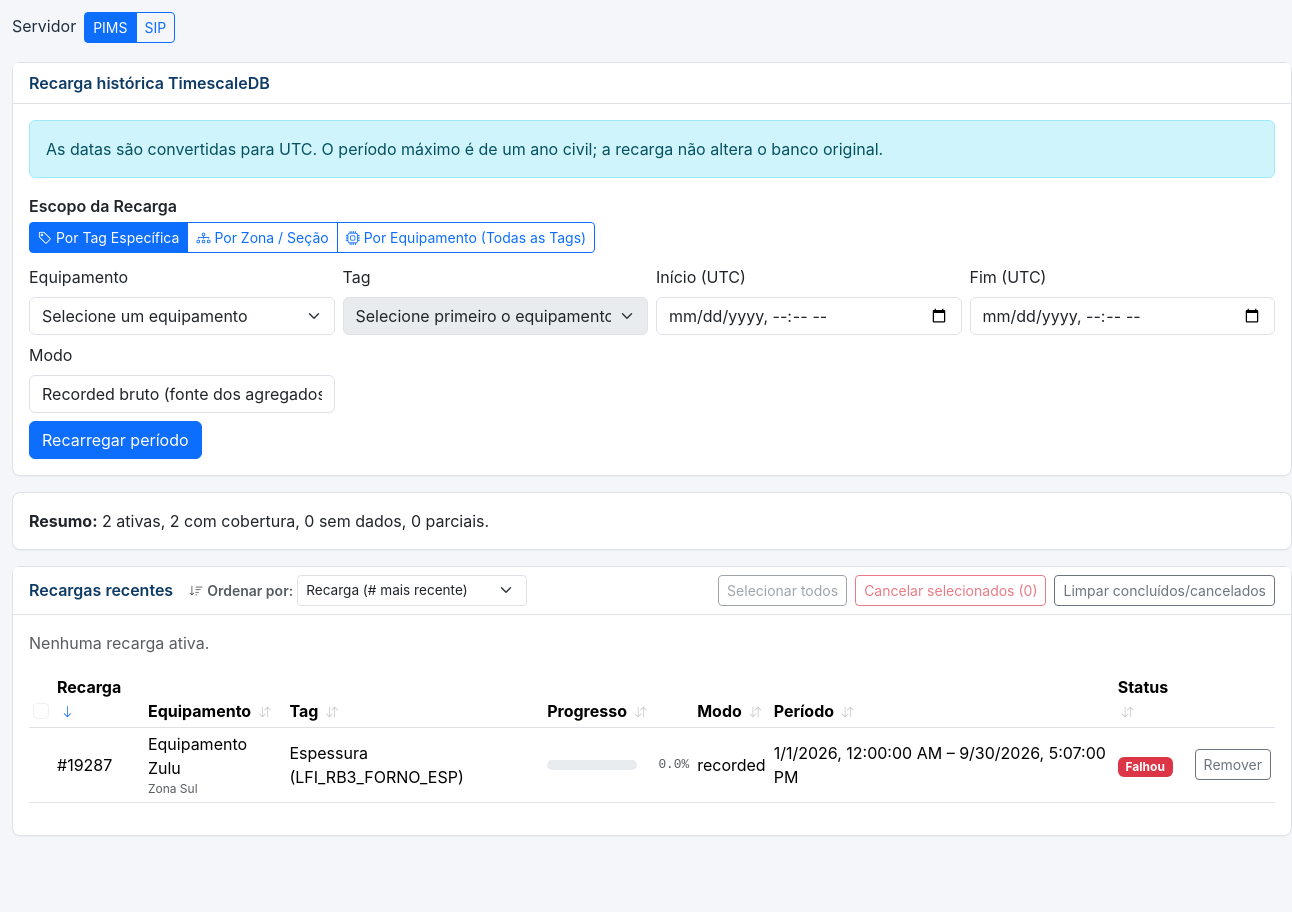
HistoricalReloadPage Sorting › removes an individual failed thickness reload record
Check: the text "Espessura (LFI_RB3_FORNO_ESP)" is shown, box left=285, top=727, right=543, bottom=802
Click the button with aria-label "Remover job #19287": point(1233, 765) left=1195, top=749, right=1271, bottom=780
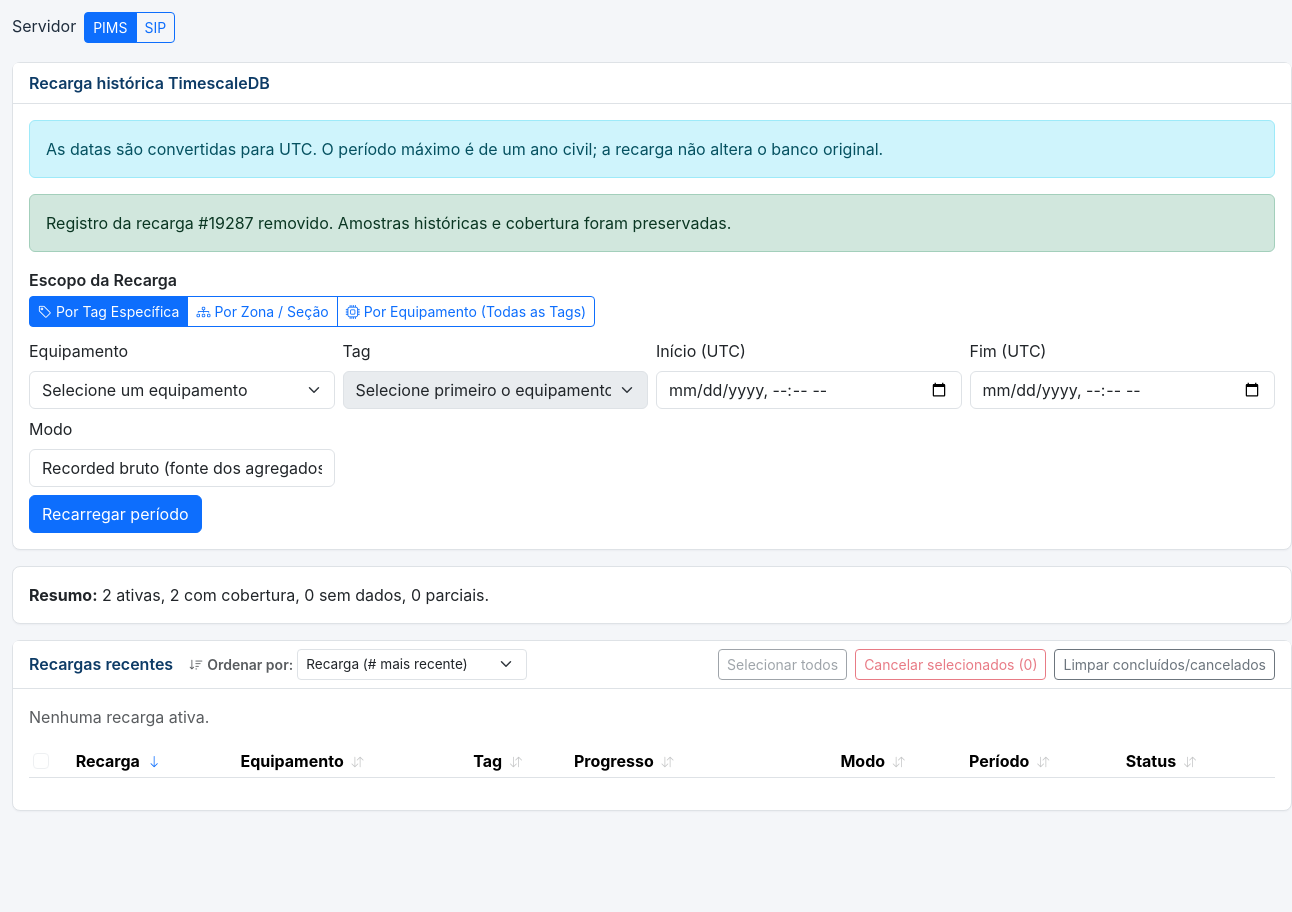
Check: the text "Amostras históricas e cobertura foram preservadas" is shown, box left=46, top=213, right=731, bottom=233
